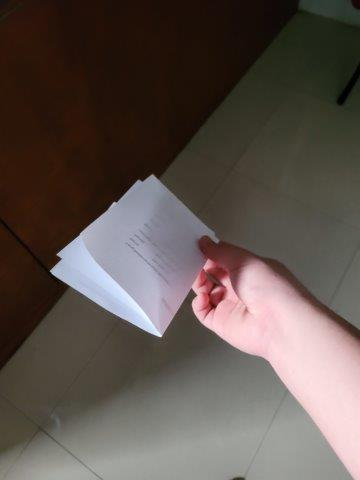kertas: (52, 176, 220, 338)
